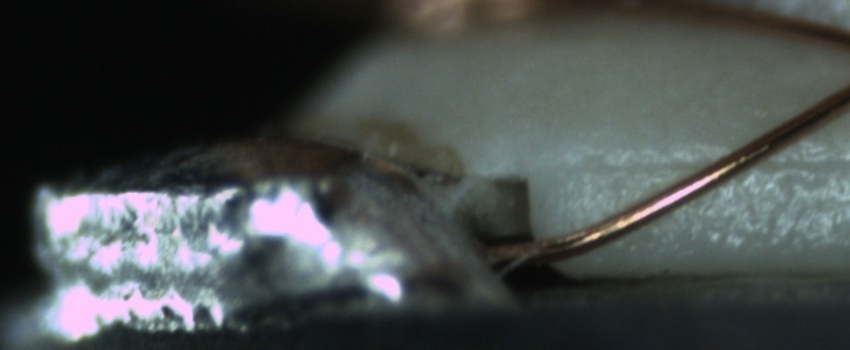DL: (576, 133, 847, 196)
